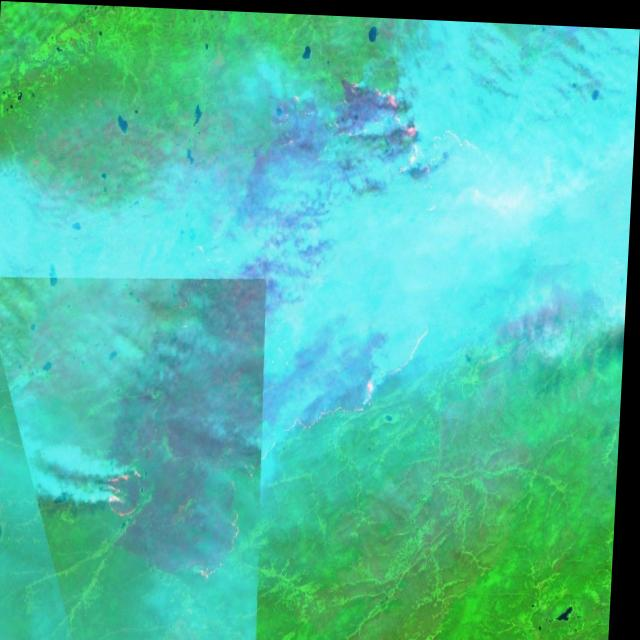fire: (331, 68, 527, 216), (106, 454, 154, 522)
